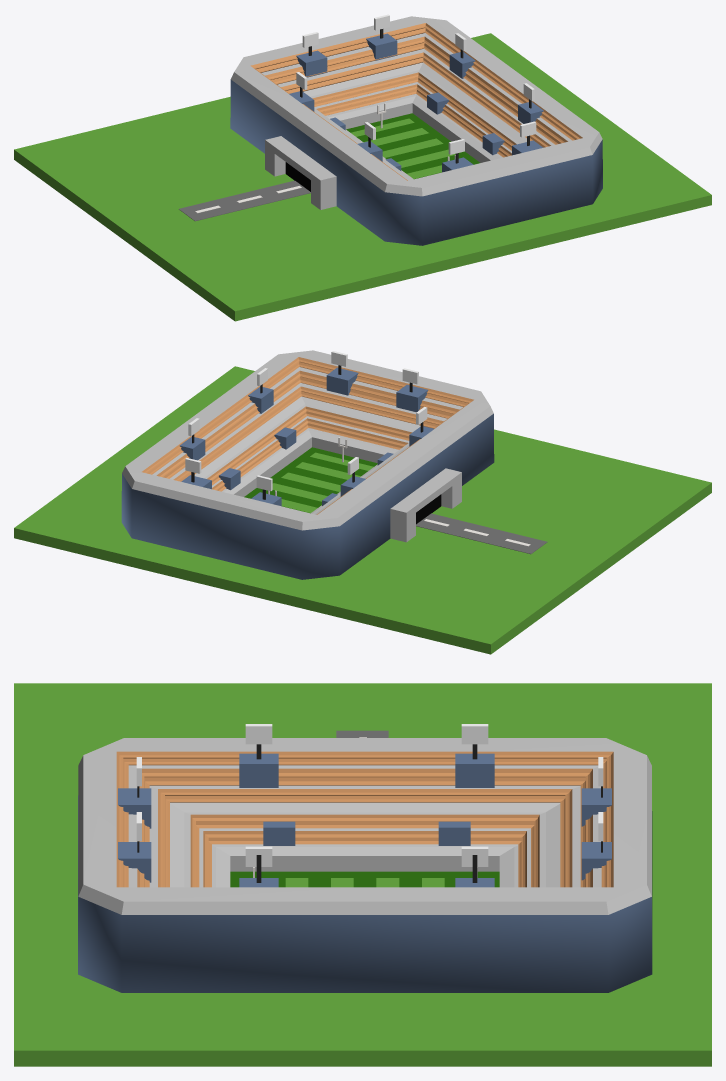
Rendered from BallPark_1244.gltf.
The picture shows the model from 3 angles, top to bottom: view 1: azimuth 30°, elevation 25°; view 2: azimuth 150°, elevation 25°; view 3: azimuth 270°, elevation 25°; orthographic projection. The views are drawn at different scales.
Parts seen in each view (by area): view 1: node-0; view 2: node-0; view 3: node-0.
Part boxes in pixels (x1,y1,x2,y2): node-0: (14,14,711,321); node-0: (14,350,711,654); node-0: (14,683,711,1066).
Bounding box in the file's own units: 214 × 37.54 × 172.
